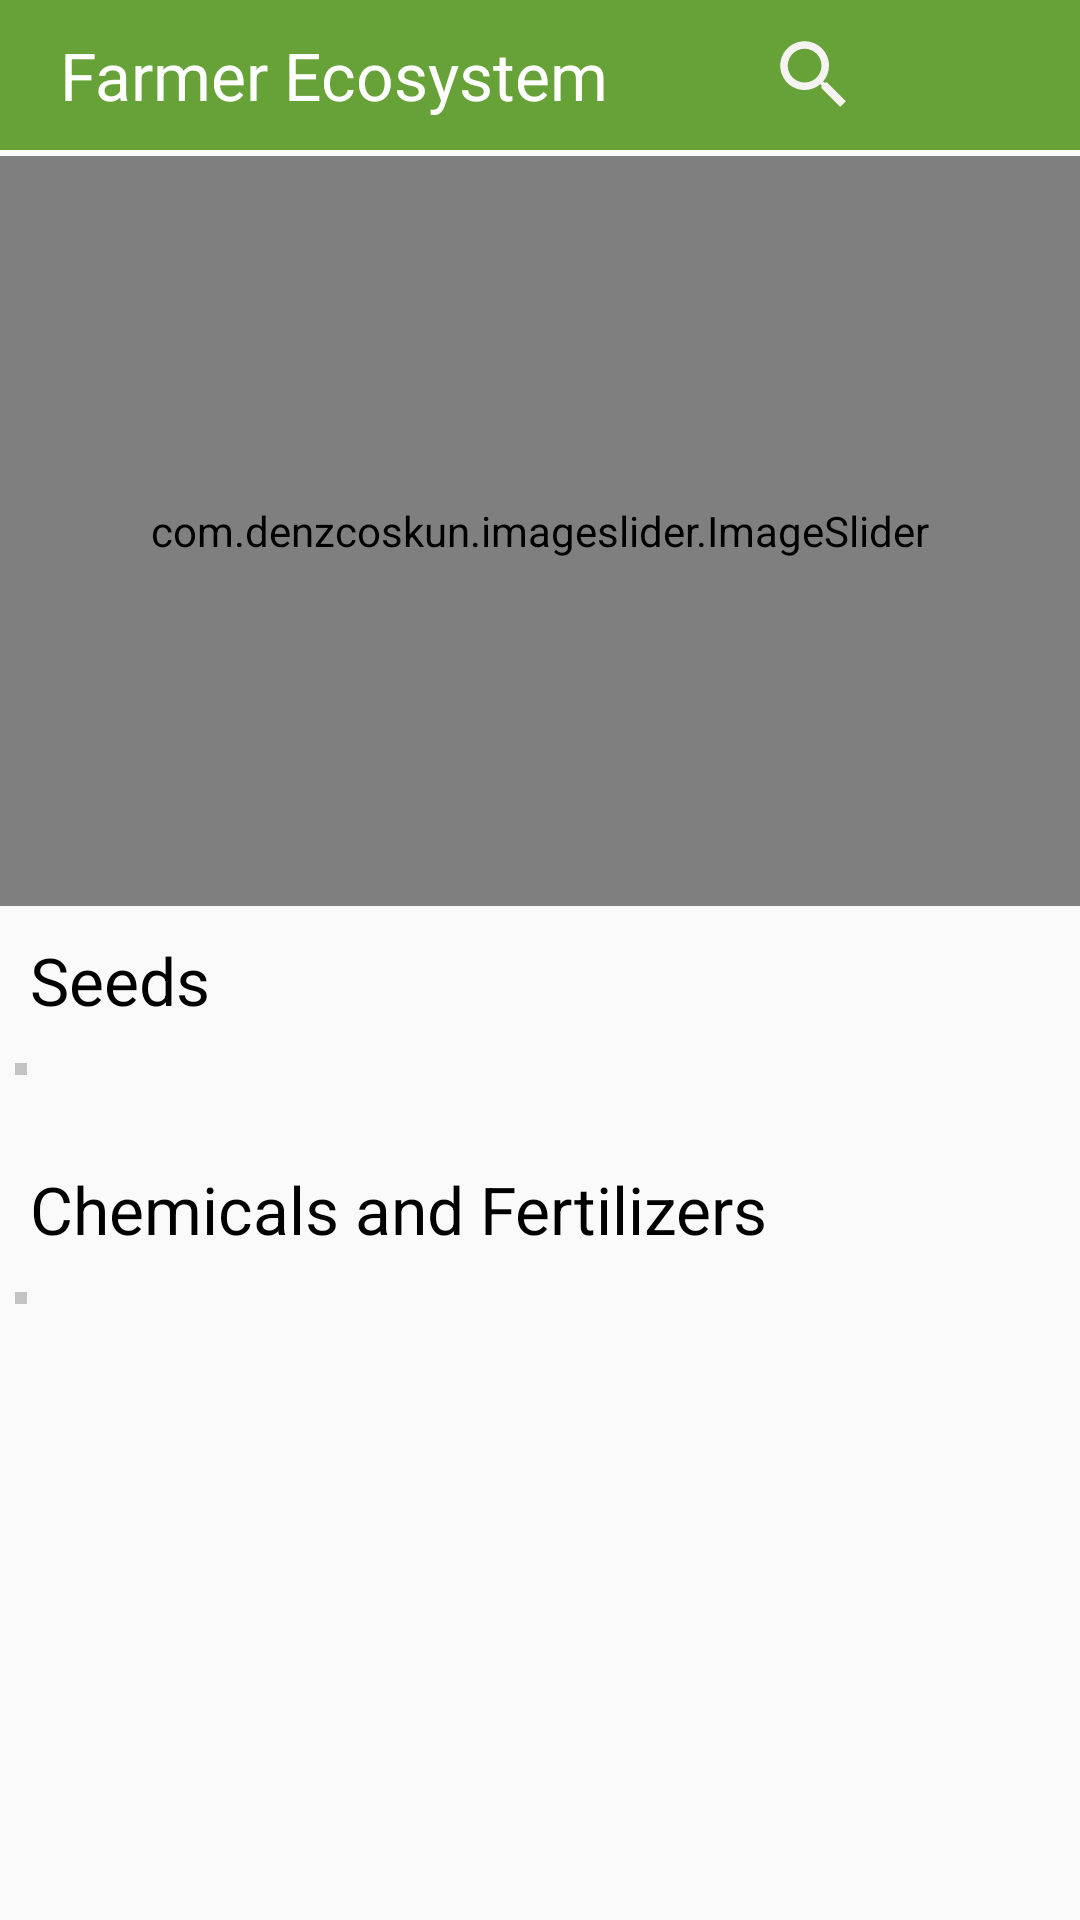

Locate icon controls on the screen. Image size 1080 x 1920, boxes as bbox=(x1, y1, x2, y2).
search: bbox=(780, 41, 846, 107)
